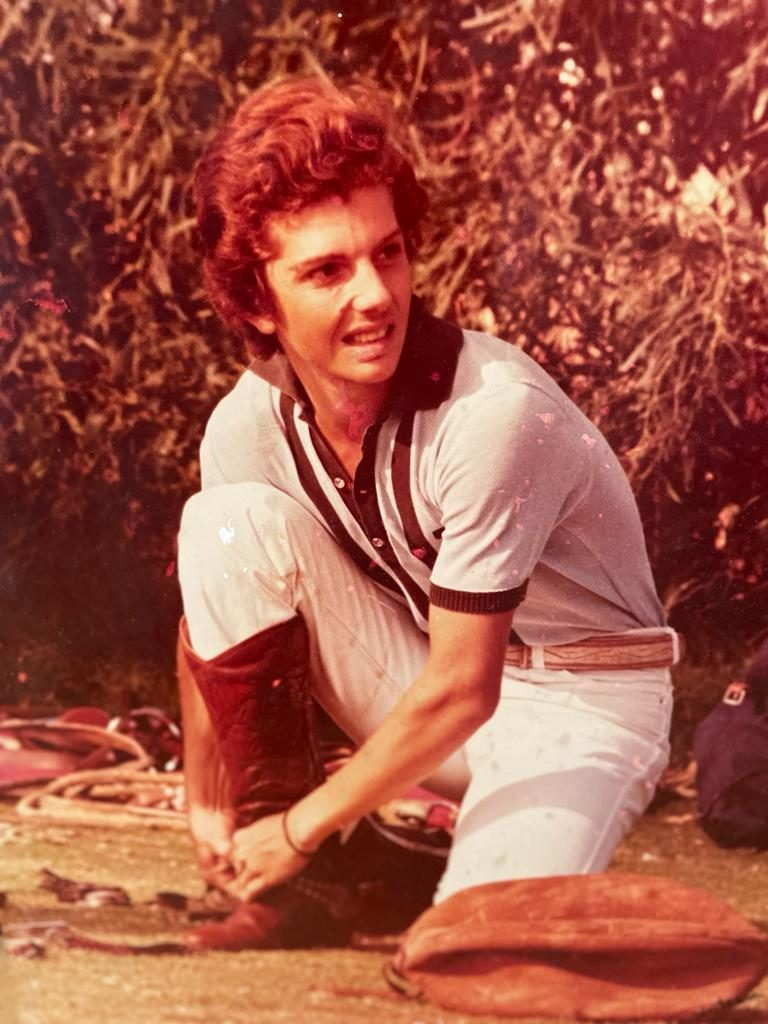Chaise: (156, 90, 314, 429)
